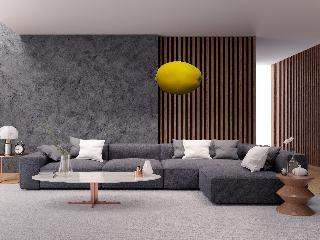lemon: (154, 59, 205, 97)
